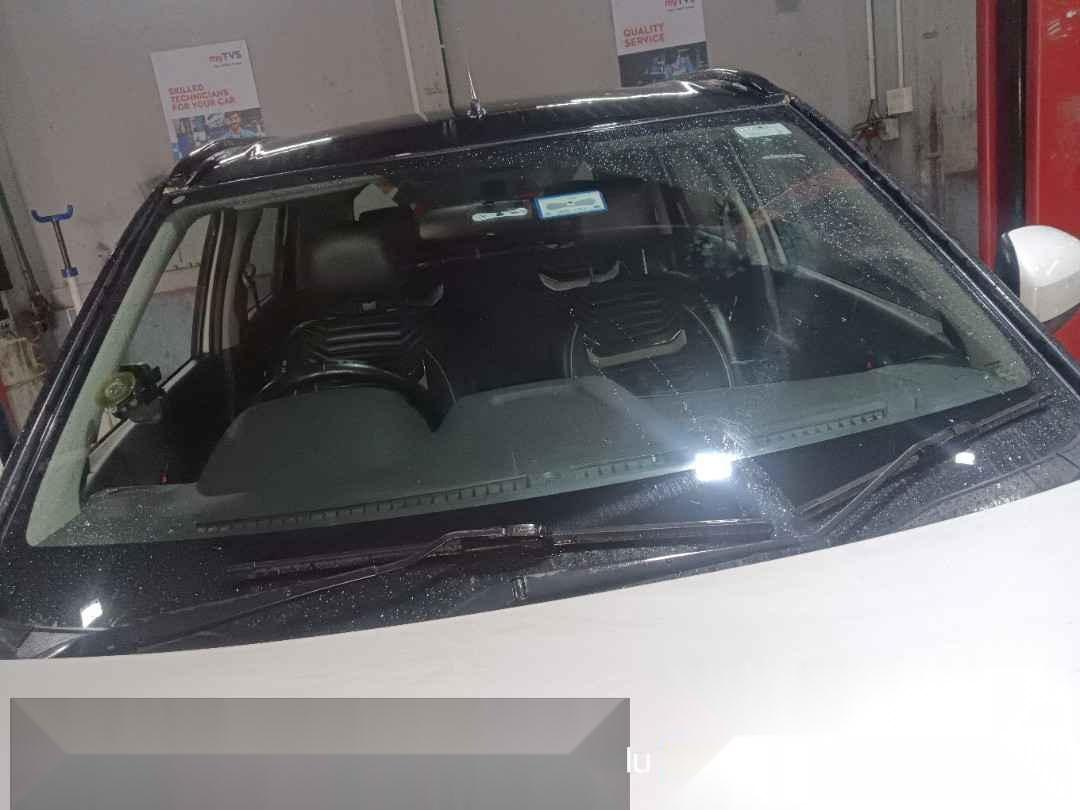FastTag: (519, 182, 626, 233)
